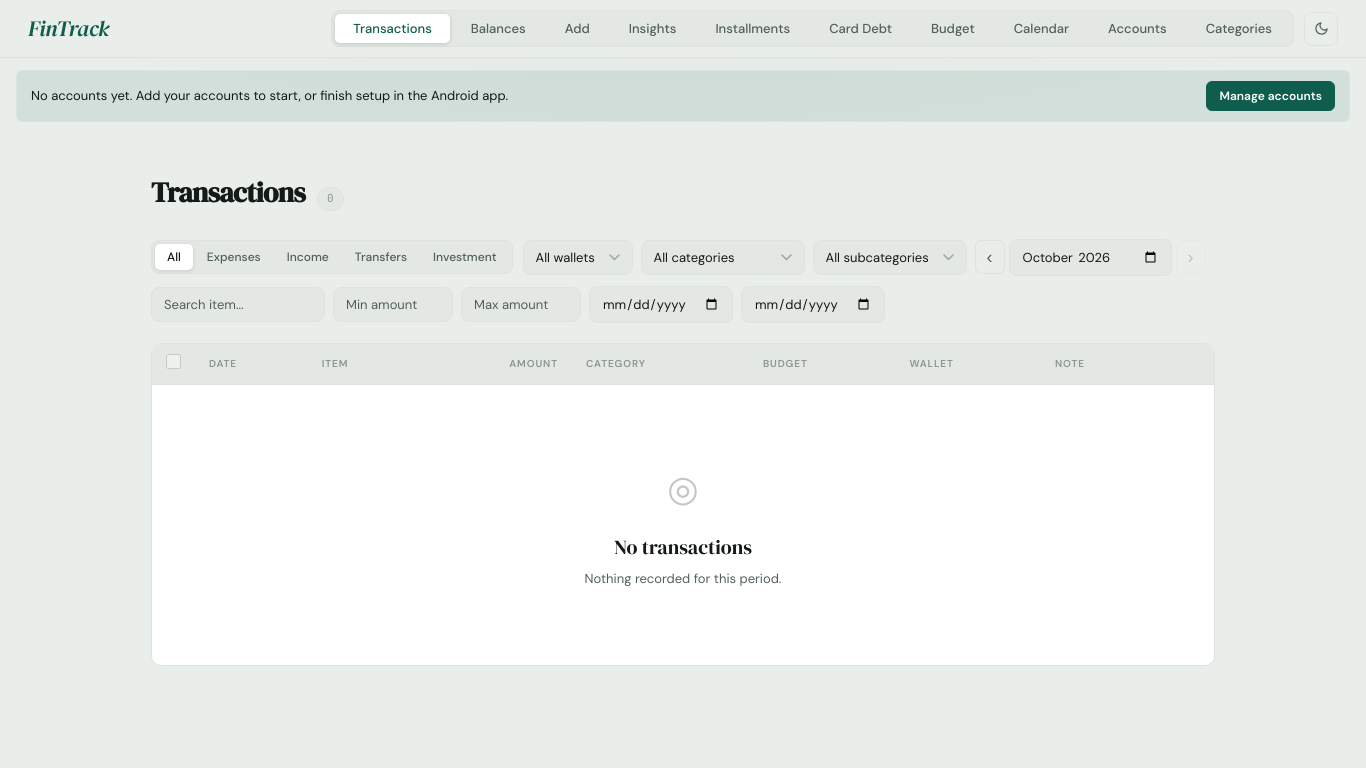
Test: shows the empty state banner when there are no accounts
Expected: the text "No accounts yet. Add your accounts to start, or finish setup in the Android app." is shown, [31,86,508,106]
Click the button "Manage accounts" at (1271, 96), box [1206,81,1335,111]
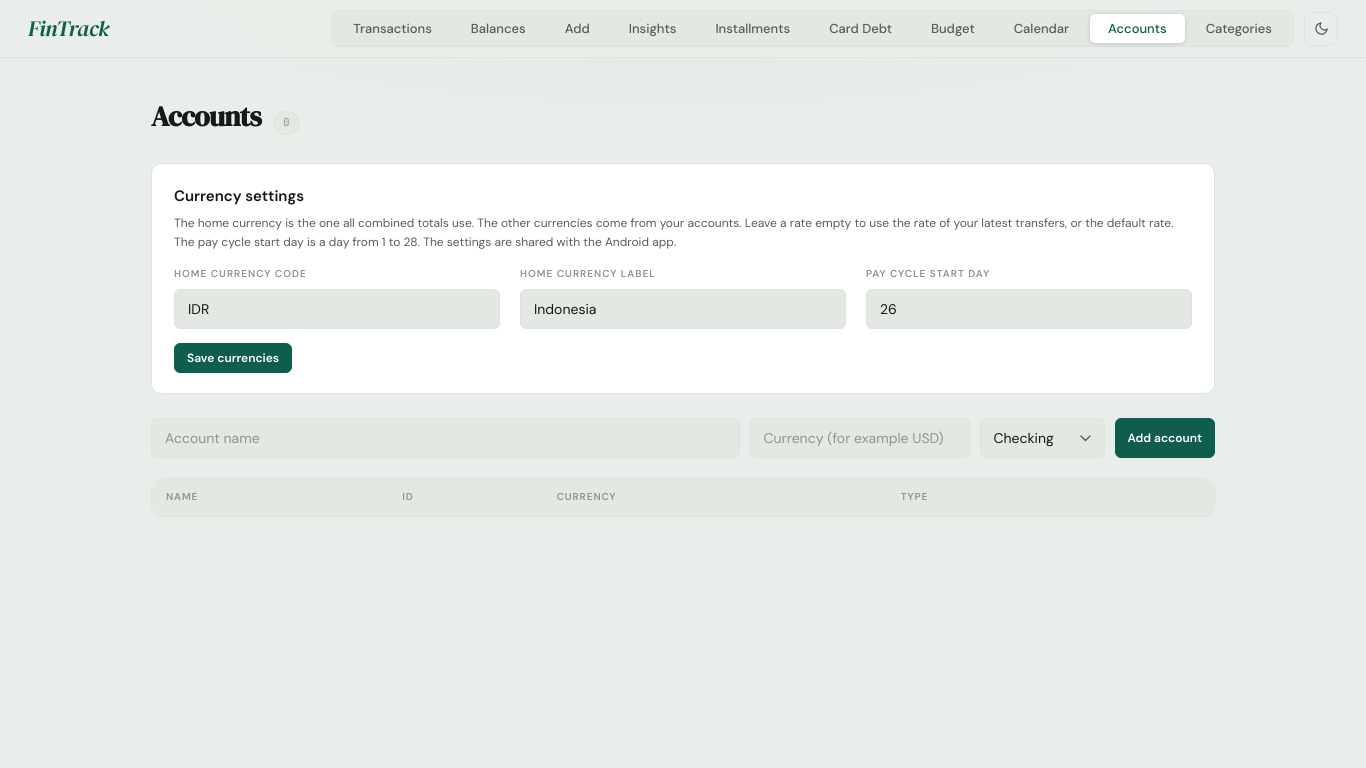
Expected: the heading "Accounts" is shown, [151,94,261,139]
Expected: the text "No accounts yet. Add your accounts to start, or finish setup in the Android app." is gone
